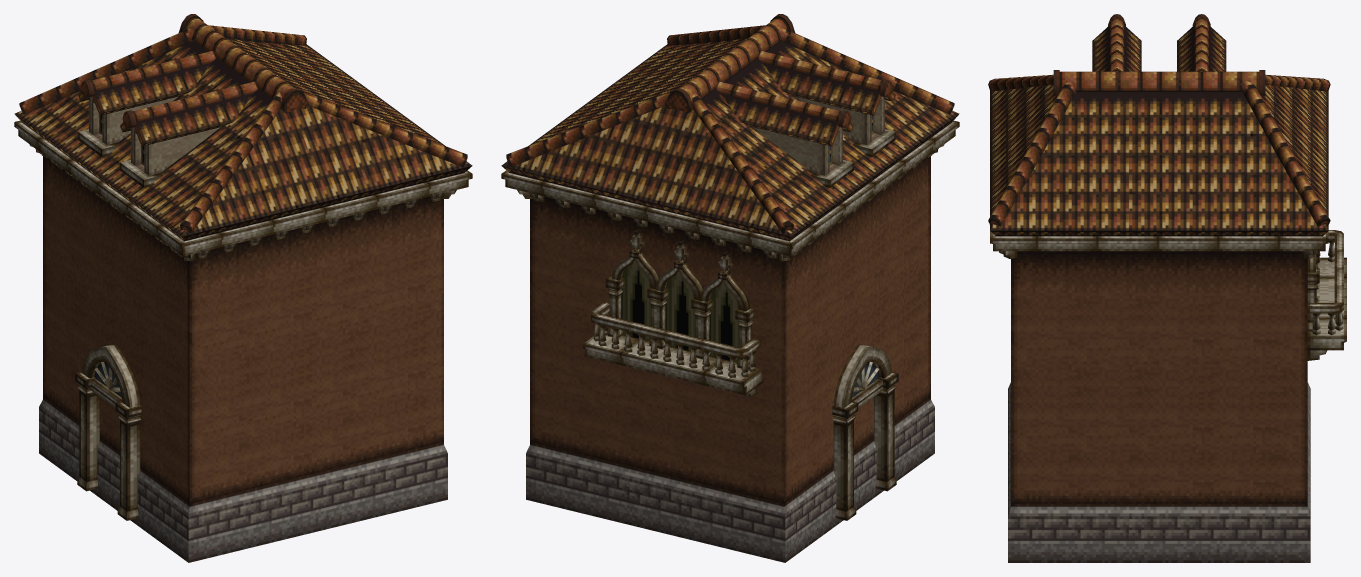
Rendered from EnvBdgMD_Sea_A_Outdoor_Shop_Weapon_A.FBX.
3 renders of one model, left to right at view 1: azimuth 30°, elevation 25°; view 2: azimuth 150°, elevation 25°; view 3: azimuth 270°, elevation 25°, orthographic.
Parts seen in each view (by area): view 1: EnvBdgMD_Sea_A_Outdoor_Shop_Weapon_A; view 2: EnvBdgMD_Sea_A_Outdoor_Shop_Weapon_A; view 3: EnvBdgMD_Sea_A_Outdoor_Shop_Weapon_A.
Part boxes in pixels (x1,y1,x2,y2): EnvBdgMD_Sea_A_Outdoor_Shop_Weapon_A: (14, 14, 472, 562); EnvBdgMD_Sea_A_Outdoor_Shop_Weapon_A: (501, 14, 959, 562); EnvBdgMD_Sea_A_Outdoor_Shop_Weapon_A: (988, 14, 1346, 562).
Bounding box in the file's own units: 560 × 781 × 593.
Materials: 2 (2 with a texture image).
